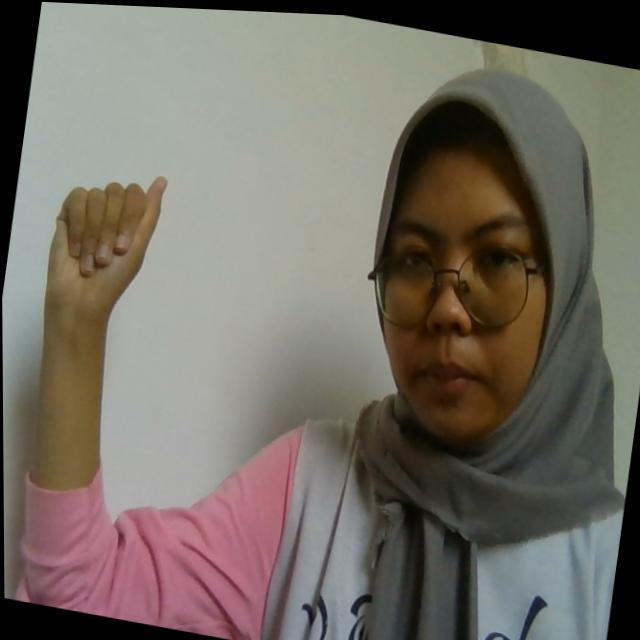A: (41, 154, 172, 320)
